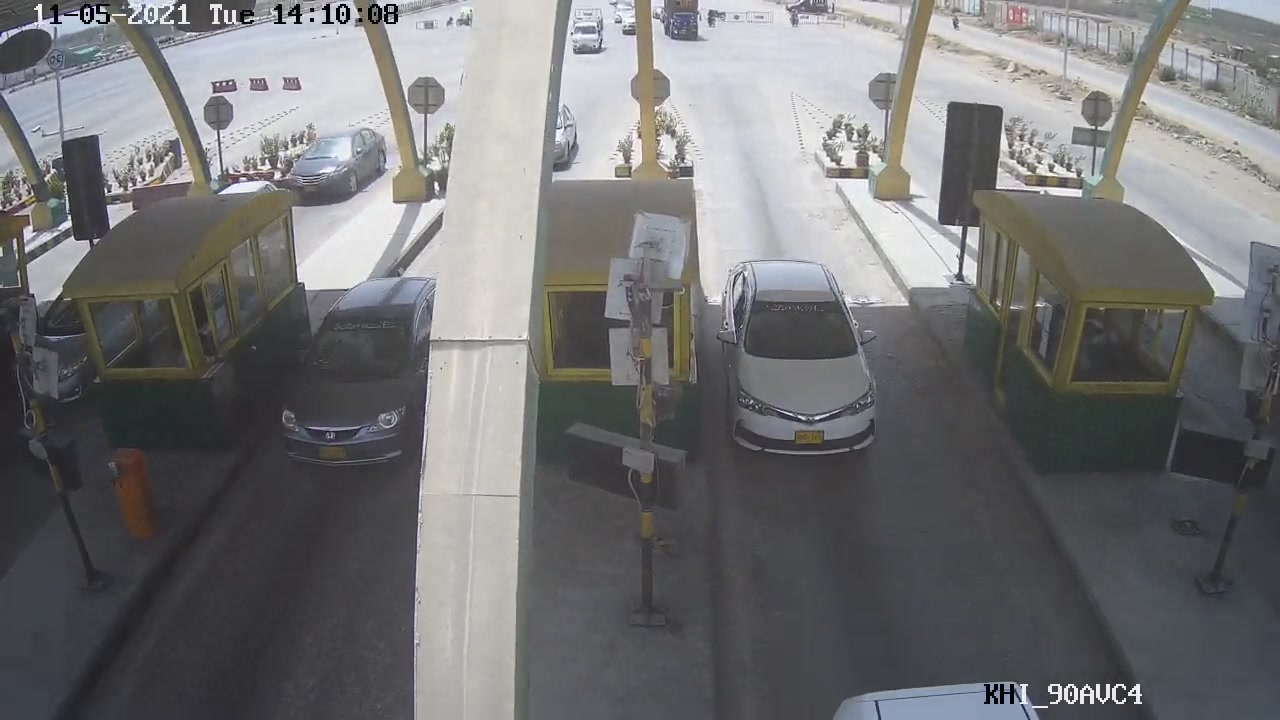F1: (716, 259, 884, 470)
